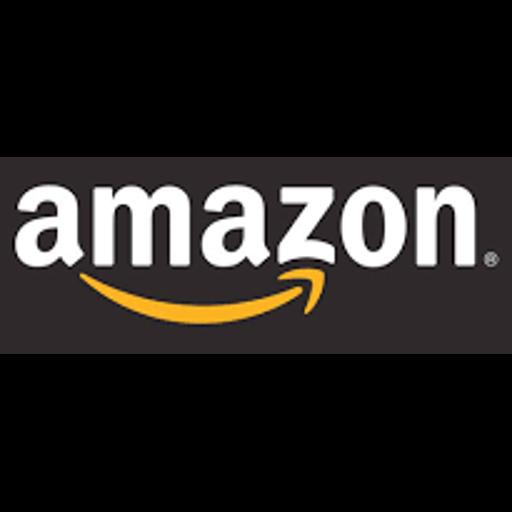Amazon: (0, 157, 512, 354)
